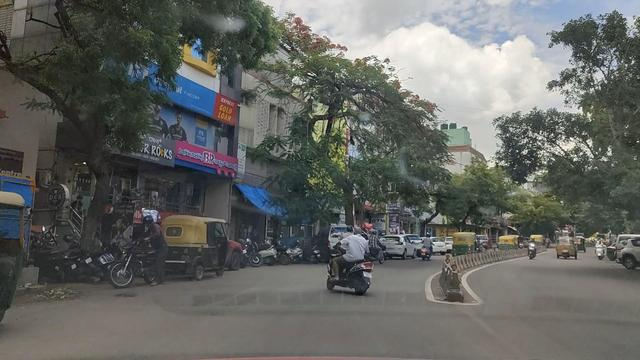LMV: (162, 214, 232, 285), (326, 218, 384, 303), (111, 214, 170, 289)
